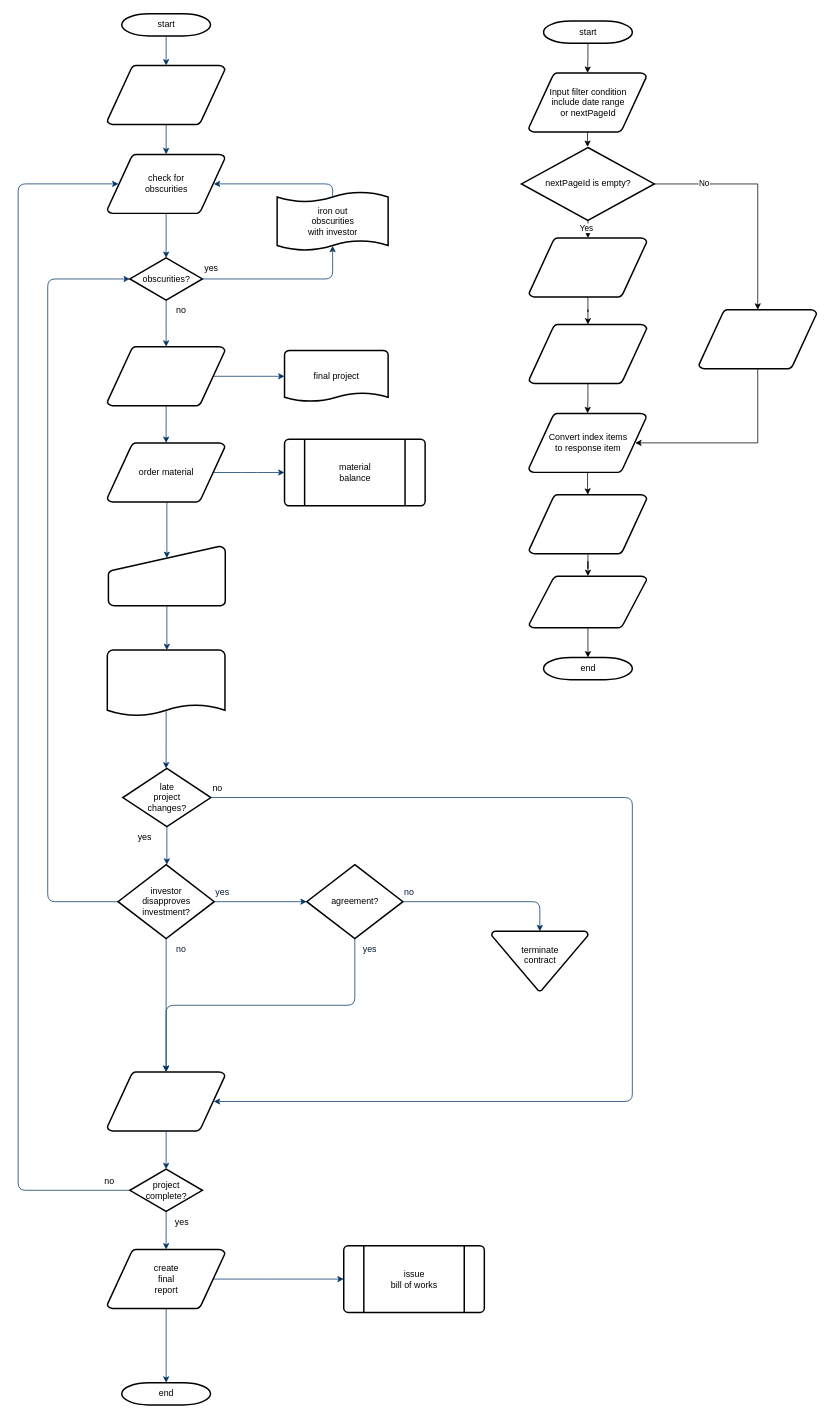
The diagram is 830 pixels wide and 1418 high, and some of its shapes have lost their labels. The centre of each missing label's shape, as x and y in pixels:
analyse project documentation: the point at 165,94
Attach next page Id to response: the point at 587,524
Build response and return: the point at 587,601
Convert filter condition to Index Client Pattern: the point at 587,267
create Gantt diagram: the point at 165,683
create material specification: the point at 165,376
create status report: the point at 165,1101
get next page by id from index client: the point at 757,339
List index items fulfill conditions: the point at 587,353
organize workforce: the point at 166,575
